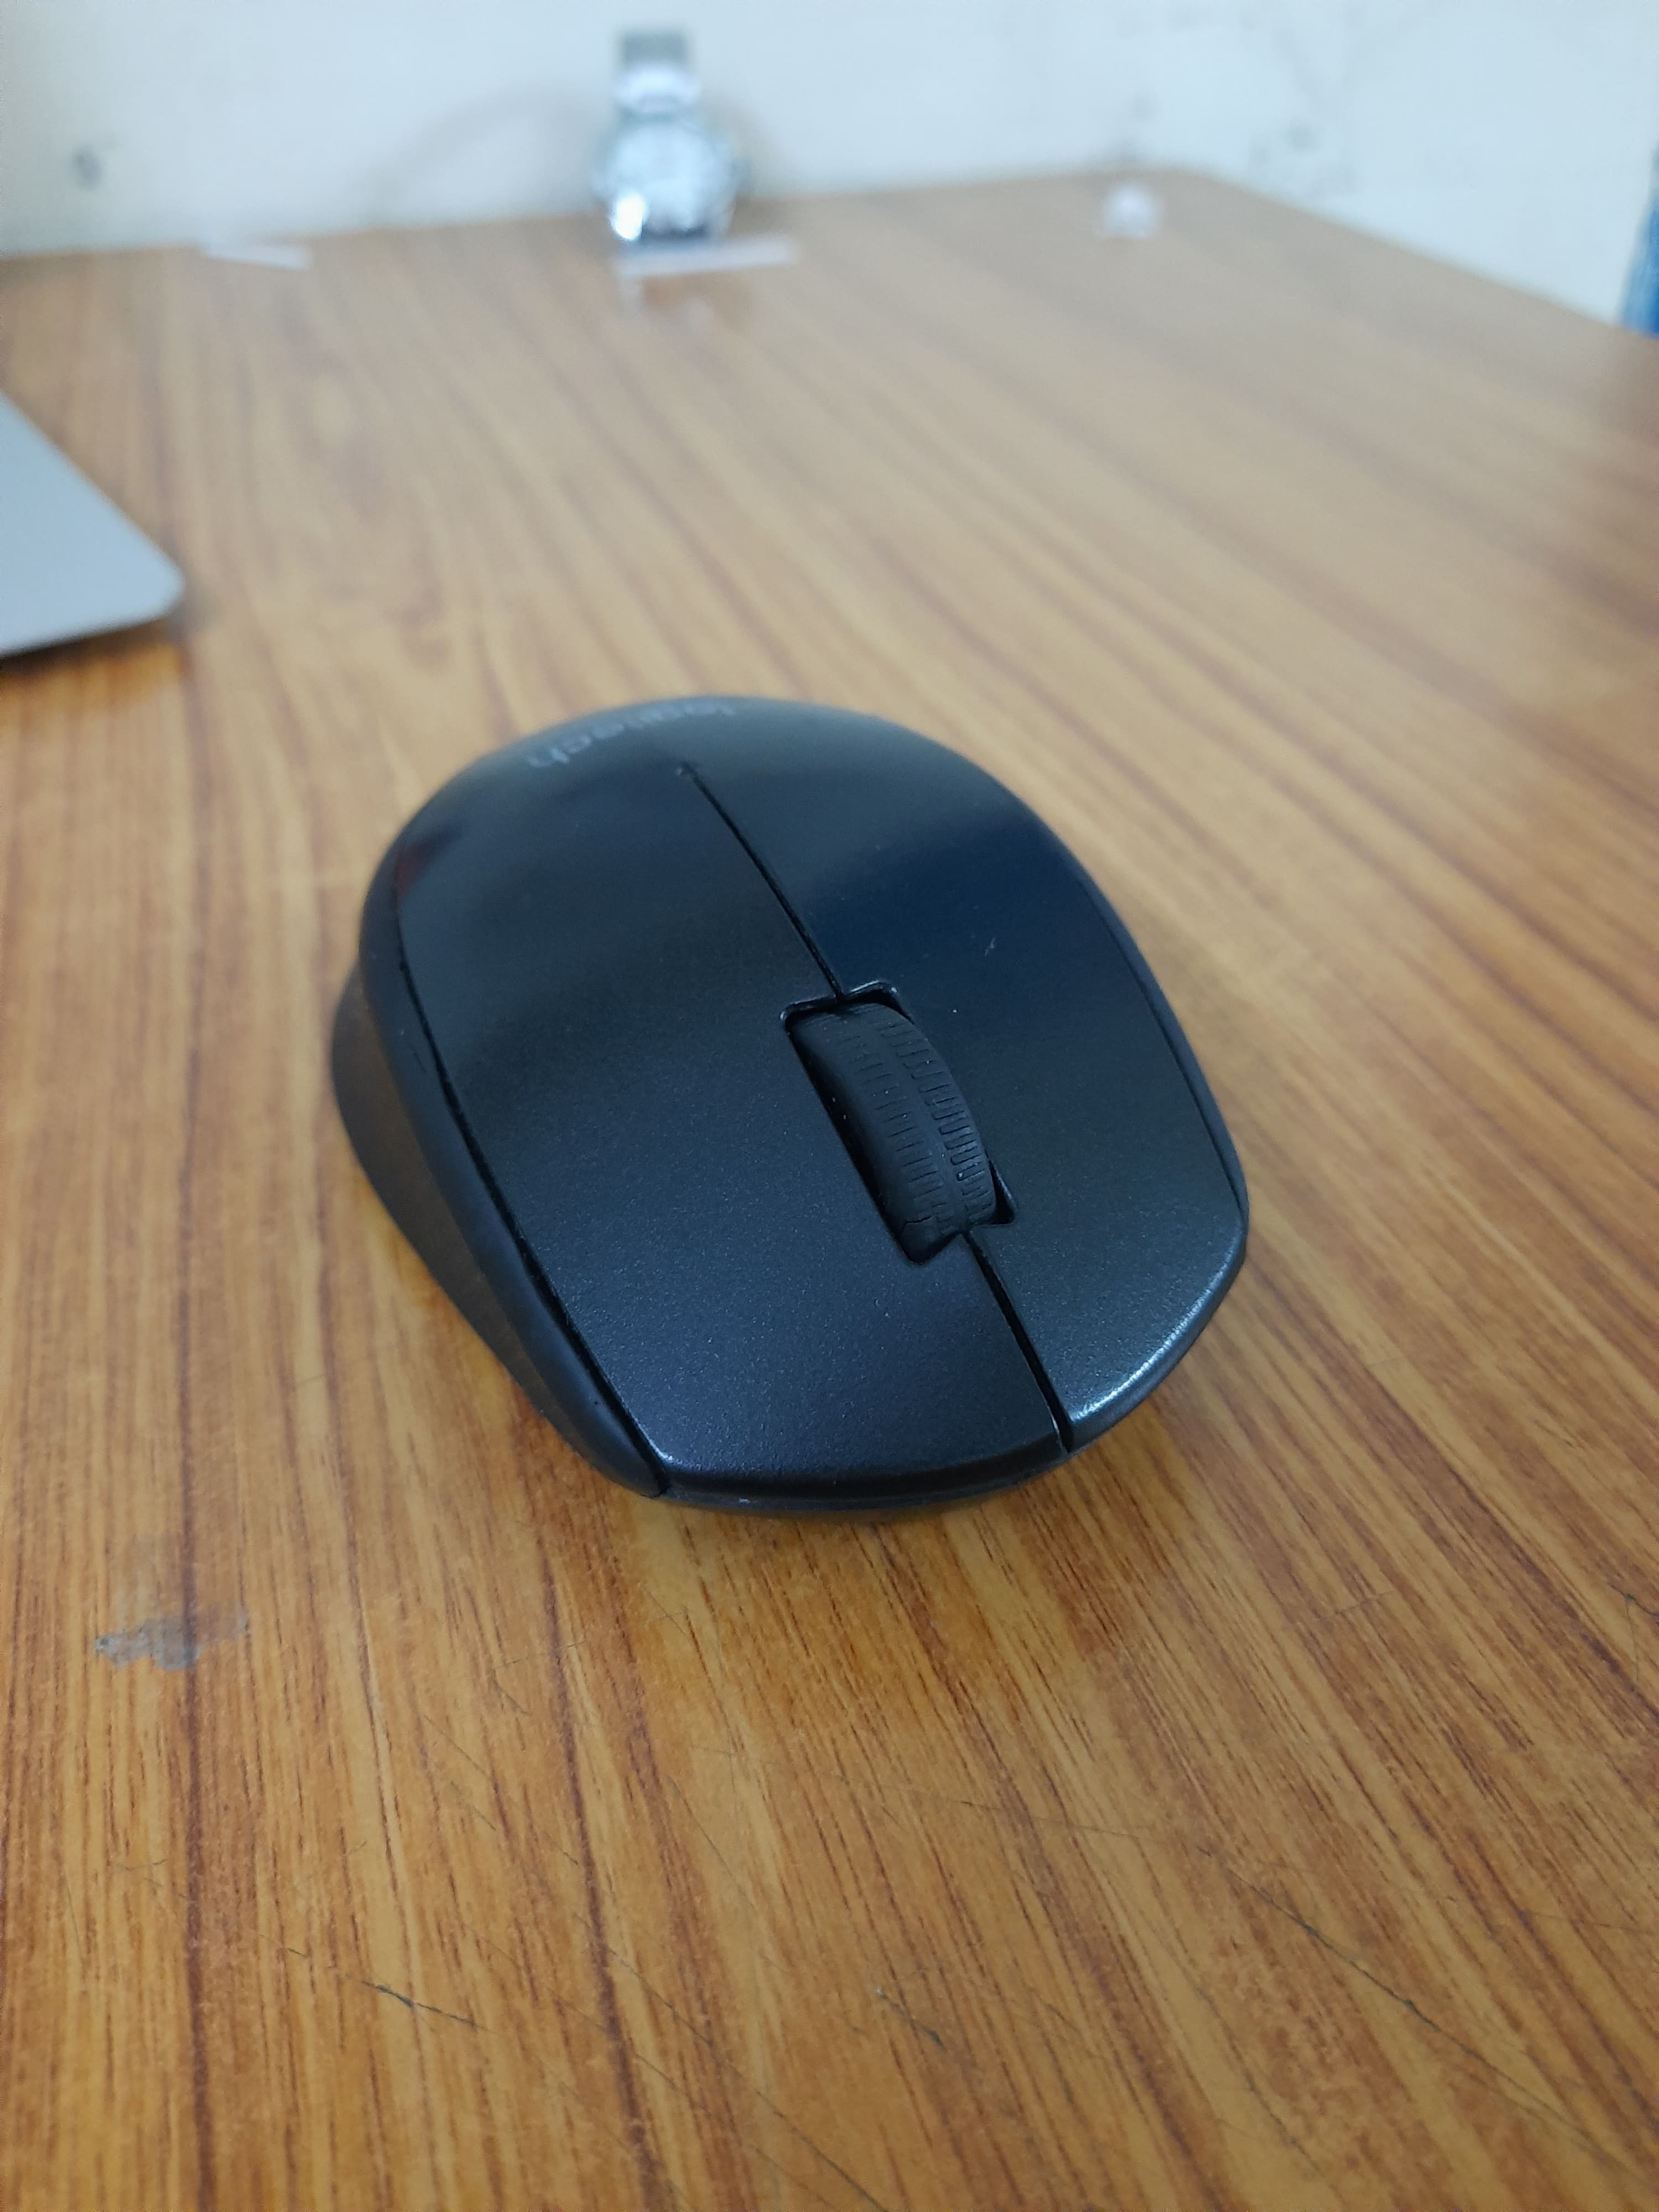Vikash's Mouse: (322, 683, 1267, 1534)
